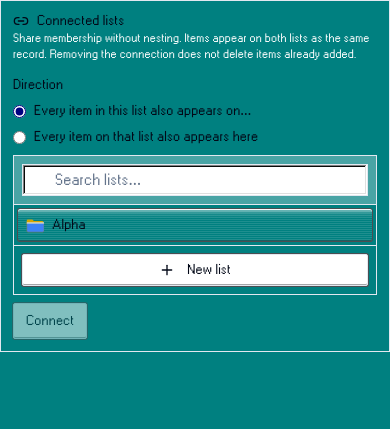
ConnectedListsEditor › can connect from the receive side (B settings writes A→B)
What coordinates should you click on to do the following:
click the radio button labelled "Every item on that list also appears here"
I would click on:
 (20, 138)
Its box is left=13, top=131, right=26, bottom=144.
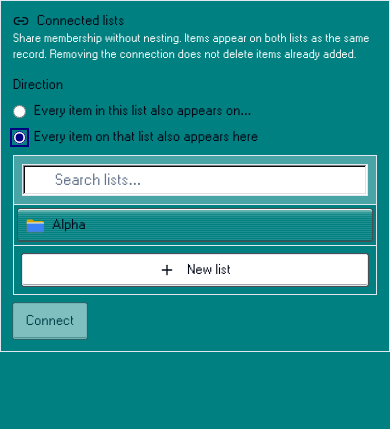
What coordinates should you click on to do the following:
click the button "Alpha"
I would click on:
 (69, 224)
Its box is left=18, top=209, right=372, bottom=241.
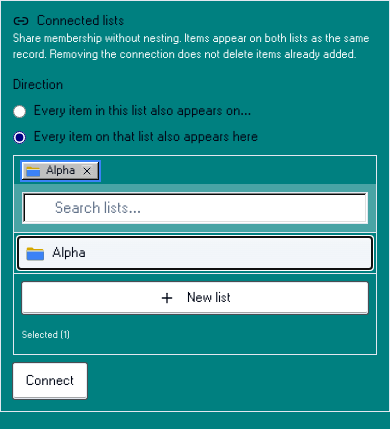
What coordinates should you click on to do the following:
click the button "Connect"
I would click on:
 (50, 381)
Its box is left=13, top=363, right=87, bottom=399.
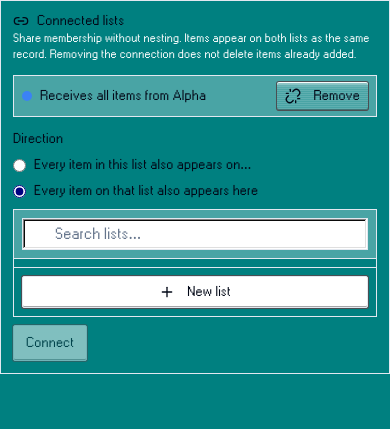
Result: the text "Receives all items from Alpha" is shown at left=40, top=89, right=206, bottom=102
